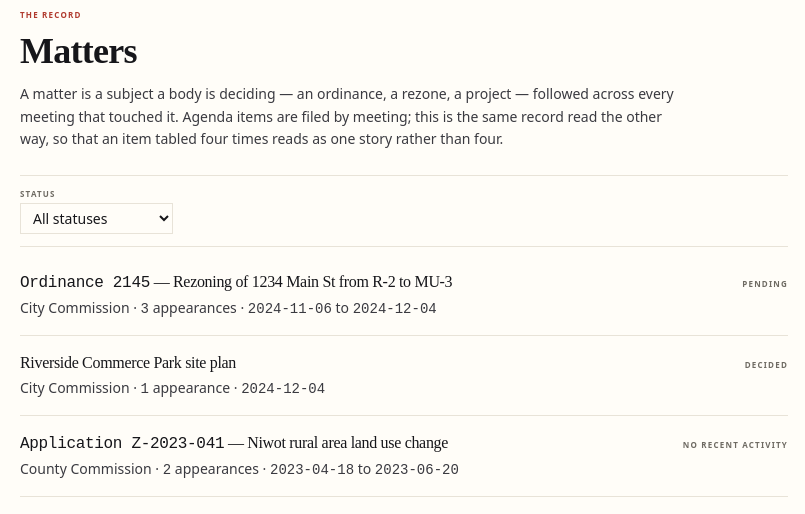
MattersPage › explains the selected status, because 'dormant' is not self-evident
The width and height of the screenshot is (805, 514).
Select "No recent activity" in the dropdown labelled "Status" at (96, 219), box [20, 203, 173, 234]
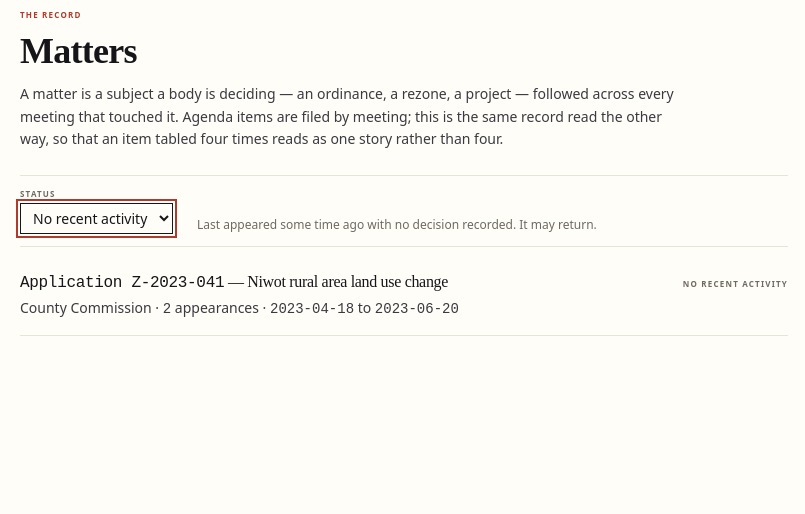
Expected: the text "no decision recorded. It may return" is shown, [197, 216, 597, 233]
